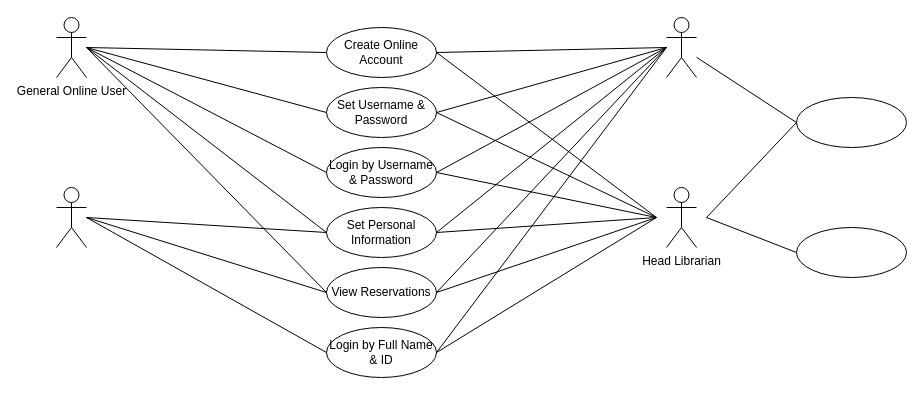
The diagram is 924 pixels wide and 395 high, and some of its shapes have lost their labels. The centre of each missing label's shape, as x and y in pixels:
"Create Offline Account" belongs at [851,122].
"Librarian" belongs at [681,47].
"Offline User" belongs at [71,217].
"Set Librarian Account" belongs at [851,252].
